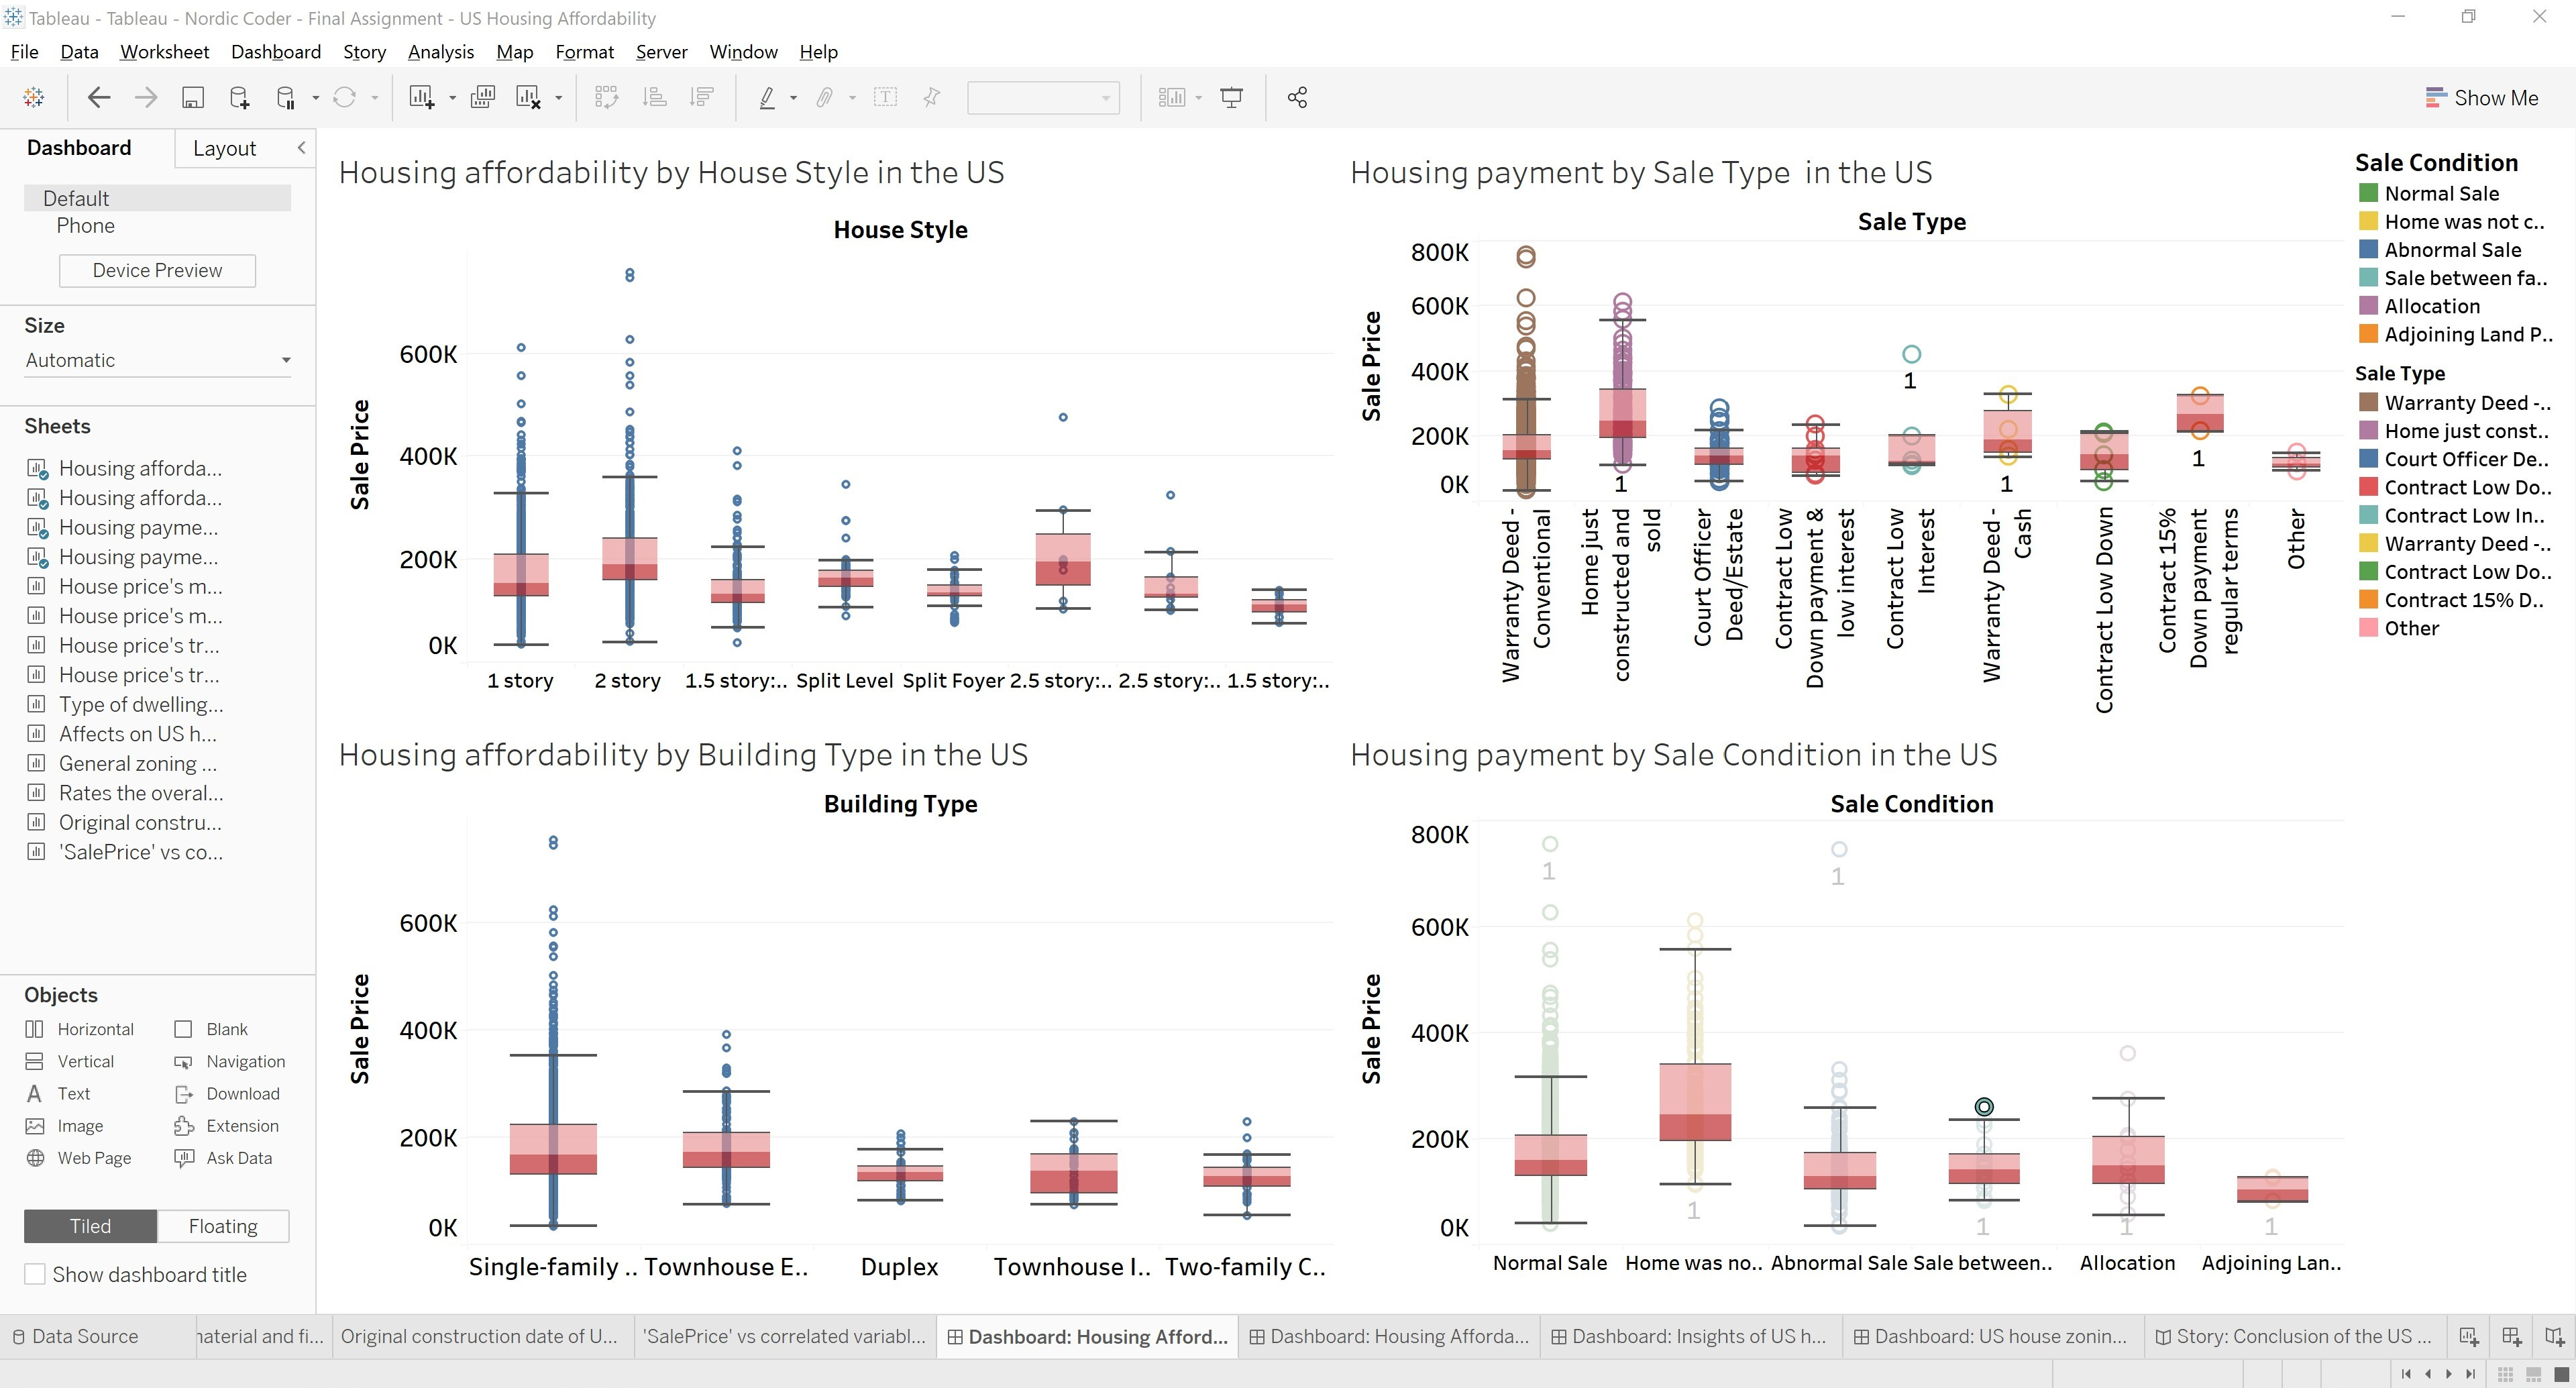

The page's visual inventory and layout, read from the dashboard file:
{"tool":"tableau","page":{"name":"Dashboard: Housing Affordability by property & sale types in the US","canvas":[1000,1000],"units":"permille","ordinal":1},"visuals":[{"type":"worksheet","title":"Housing affordability by House Style in the US","mark":"Automatic","rows":["SalePrice"],"cols":["HouseStyle"],"box":[4.8,9.1,447.7,490.9]},{"type":"worksheet","title":"Housing payment by Sale Type  in the US","mark":"Automatic","rows":["SalePrice"],"cols":["SaleType"],"box":[452.5,9.1,447.7,490.9]},{"type":"legend","title":"Housing payment by Sale Condition in the US","param":"[federated.0mtpgnv0v9jcej1em37h80tl5cxx].[none:SaleCondition:nk]","box":[900.2,9.1,95.1,181.2]},{"type":"legend","title":"Housing payment by Sale Type  in the US","param":"[federated.0mtpgnv0v9jcej1em37h80tl5cxx].[none:SaleType:nk]","box":[900.2,190.3,95.1,248]},{"type":"worksheet","title":"Housing affordability by Building Type in the US","mark":"Automatic","rows":["SalePrice"],"cols":["BldgType"],"box":[4.8,500,447.7,490.9]},{"type":"worksheet","title":"Housing payment by Sale Condition in the US","mark":"Automatic","rows":["SalePrice"],"cols":["SaleCondition"],"box":[452.5,500,447.7,490.9]}]}

Visuals, with their boxes on the dashboard's canvas, which has no fixed pixel size, in thousandths of its width and height (x1, y1, x2, y2). These are canvas units, not pixel positions in the 2576x1388 screenshot, which may show the page scaled, cropped or inside an application window:
"Housing affordability by House Style in the US" worksheet: box=[5, 9, 452, 500]
"Housing payment by Sale Type  in the US" worksheet: box=[452, 9, 900, 500]
"Housing payment by Sale Condition in the US" legend: box=[900, 9, 995, 190]
"Housing payment by Sale Type  in the US" legend: box=[900, 190, 995, 438]
"Housing affordability by Building Type in the US" worksheet: box=[5, 500, 452, 991]
"Housing payment by Sale Condition in the US" worksheet: box=[452, 500, 900, 991]
